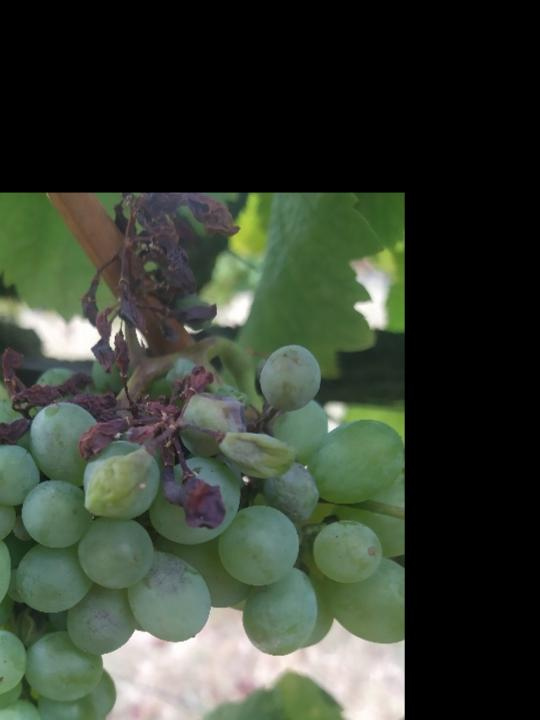grape: (0, 193, 405, 720)
